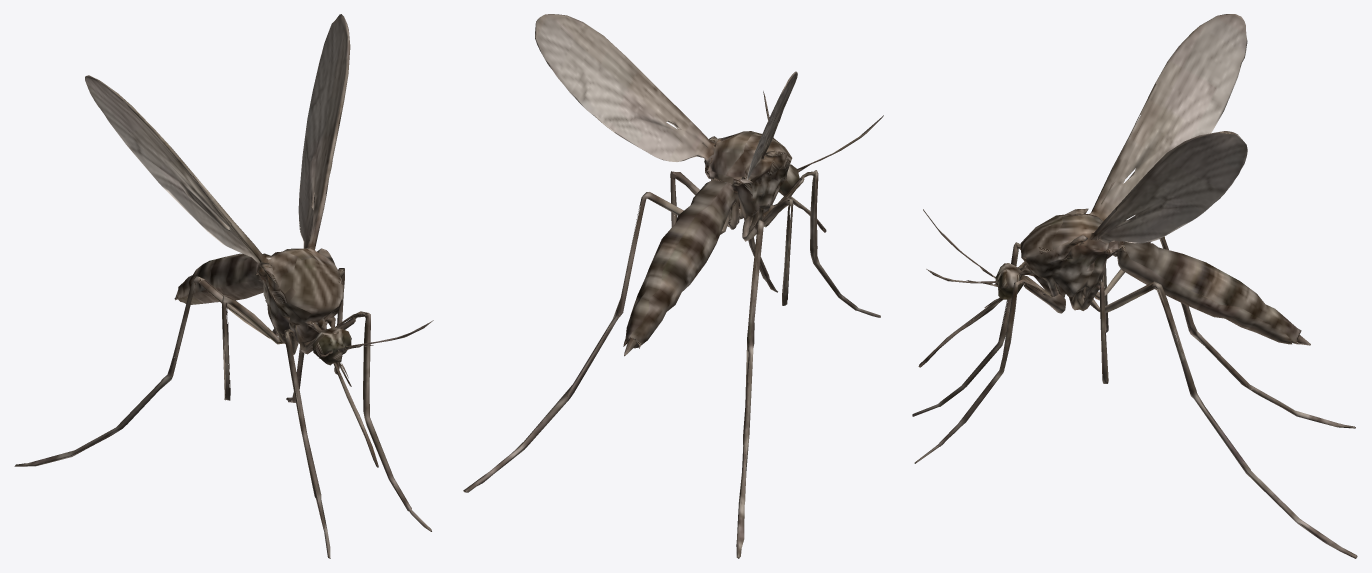
Rendered from Zumbador_LOD1.glb.
3 renders of one model, left to right at view 1: azimuth 30°, elevation 25°; view 2: azimuth 150°, elevation 25°; view 3: azimuth 270°, elevation 25°, orthographic. The views are drawn at different scales.
Visible parts, largest first — view 1: Zumbador; view 2: Zumbador; view 3: Zumbador.
Part boxes in pixels (x1,y1,x2,y2): Zumbador: (14,14,433,558); Zumbador: (463,14,883,558); Zumbador: (912,14,1357,558).
Size of the model in its own units: 0.0669 by 0.1 by 0.0958.
1 material, 1 textured.
